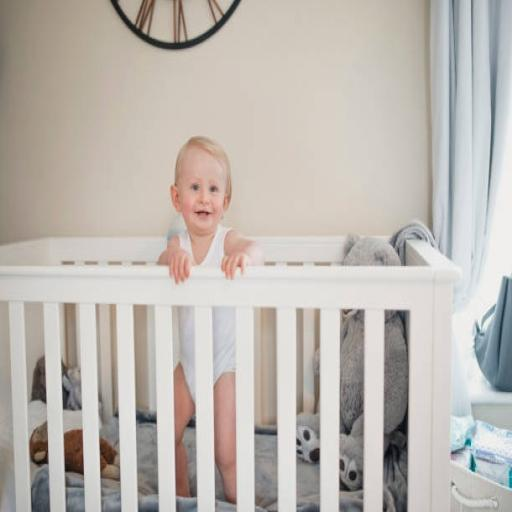baby: (158, 137, 263, 282)
crib: (0, 238, 459, 510)
